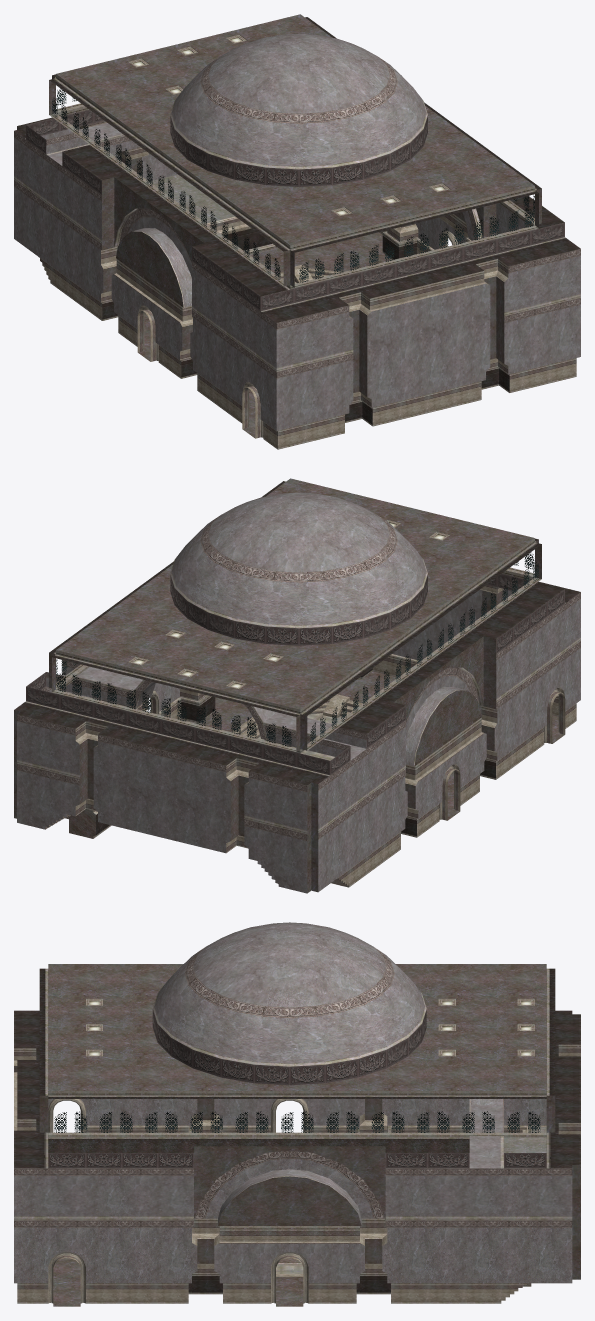
Rendered from ply_nboo_capitol_s01_r3_grandhall_mesh_r3.fbx.
The picture shows the model from 3 angles, top to bottom: view 1: azimuth 30°, elevation 25°; view 2: azimuth 150°, elevation 25°; view 3: azimuth 270°, elevation 25°; orthographic projection. The views are drawn at different scales.
Visible parts, largest first — view 1: mesh_node; view 2: mesh_node; view 3: mesh_node.
Boxes of the visible parts, left/top/right/bottom form: mesh_node: left=14, top=14, right=580, bottom=449; mesh_node: left=14, top=478, right=580, bottom=893; mesh_node: left=14, top=922, right=580, bottom=1306.
Bounding box in the file's own units: 22.2 × 19.22 × 33.1.
